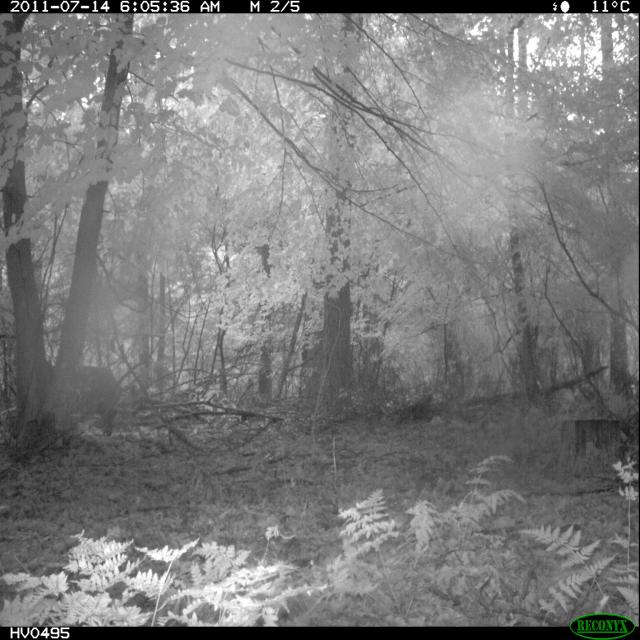boar: (4, 358, 130, 432)
